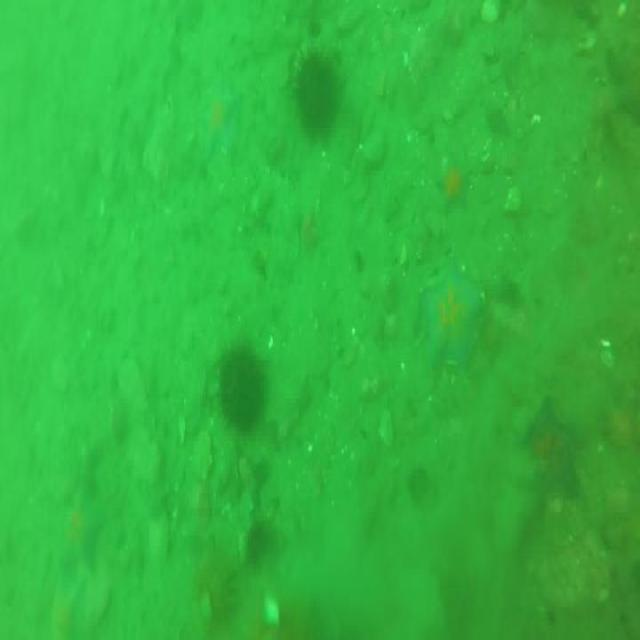echinus: (299, 44, 342, 142), (217, 344, 260, 430)
starfish: (421, 259, 484, 367), (526, 403, 580, 504), (196, 79, 240, 163), (436, 153, 474, 209)
